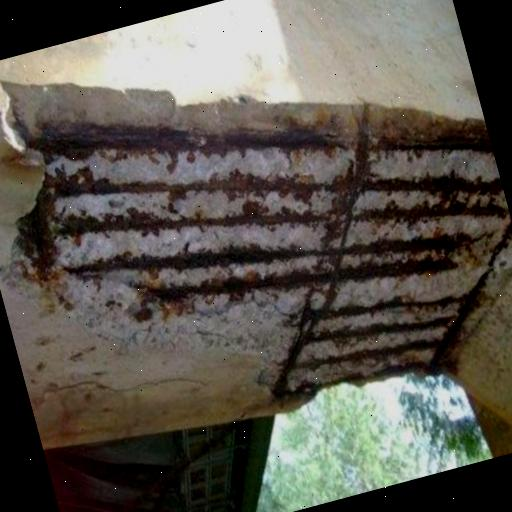spalling: (0, 80, 512, 404)
